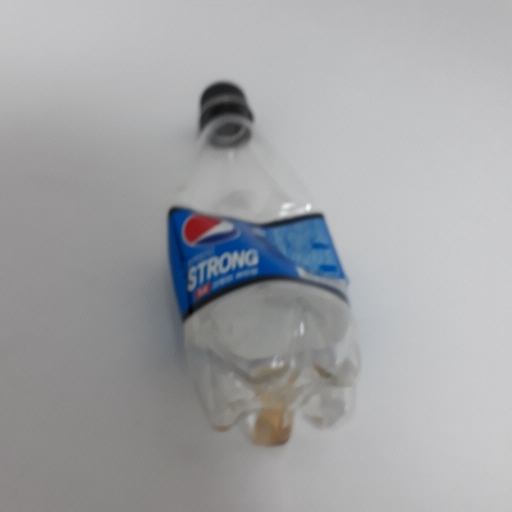Plastic_0: (159, 77, 366, 450)
